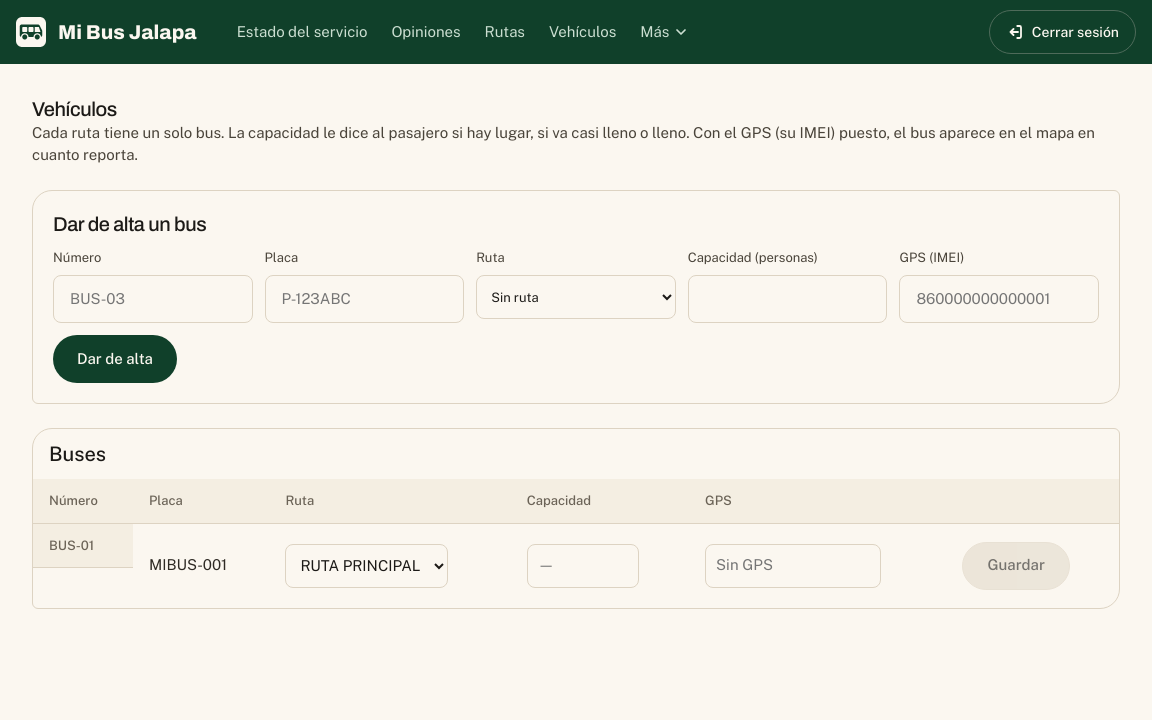
Test: Vehículos en el panel municipal › le pone GPS a un bus sin tocar la ruta
Type "860000000000001" into the field named "GPS de BUS-01" at [793, 566], box [705,544,881,588]
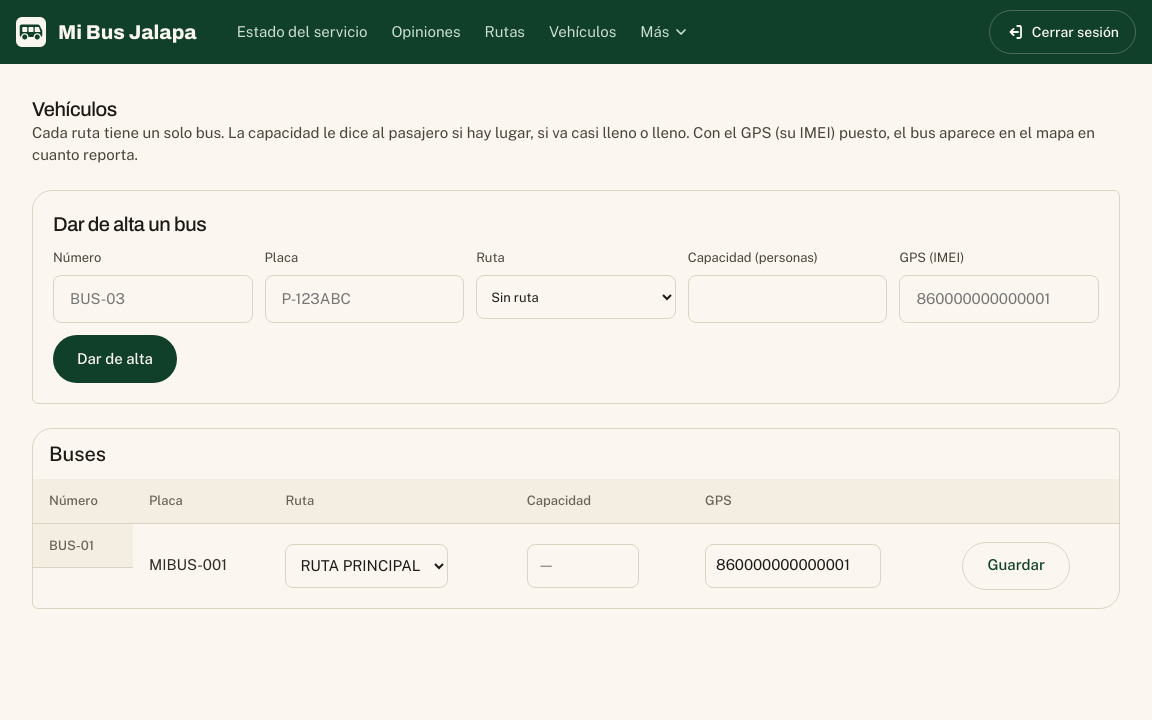
Click the button "Guardar" at [1016, 566], box [962,542,1070,590]
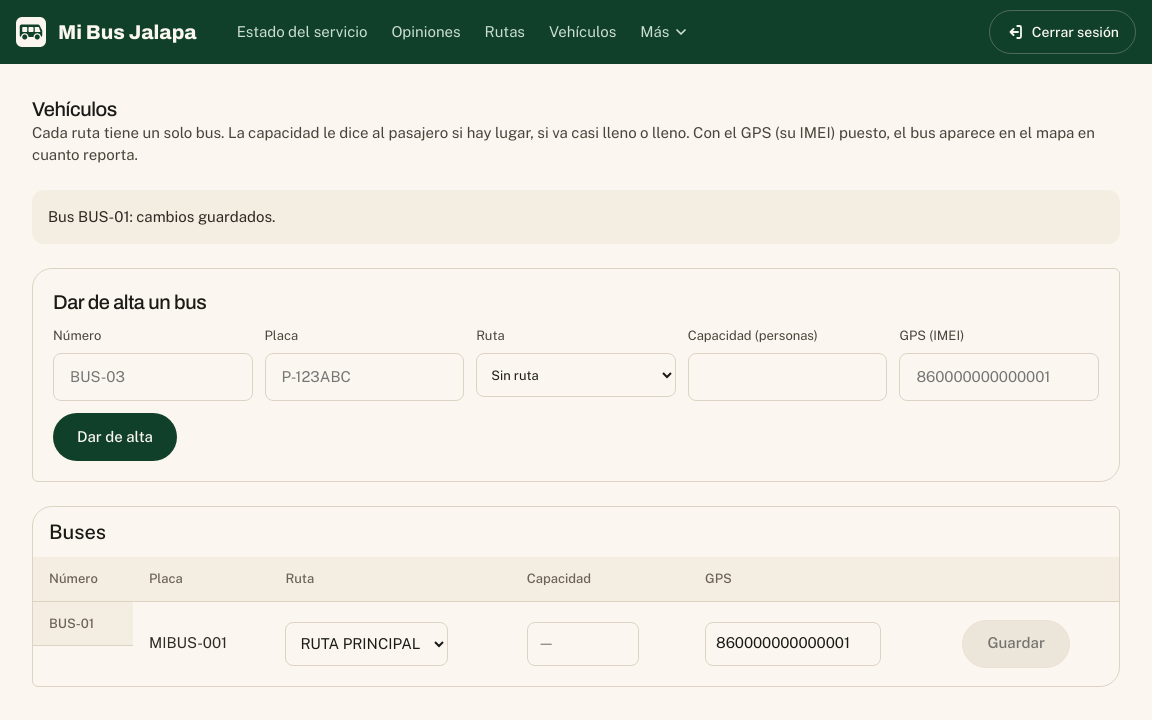
Check: the text "Bus BUS-01: cambios guardados." is shown, box [32,190,1120,244]
